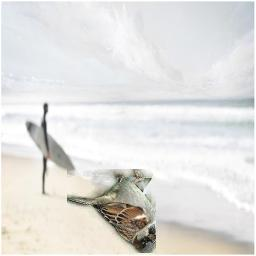Sparrow: (67, 169, 156, 253)
